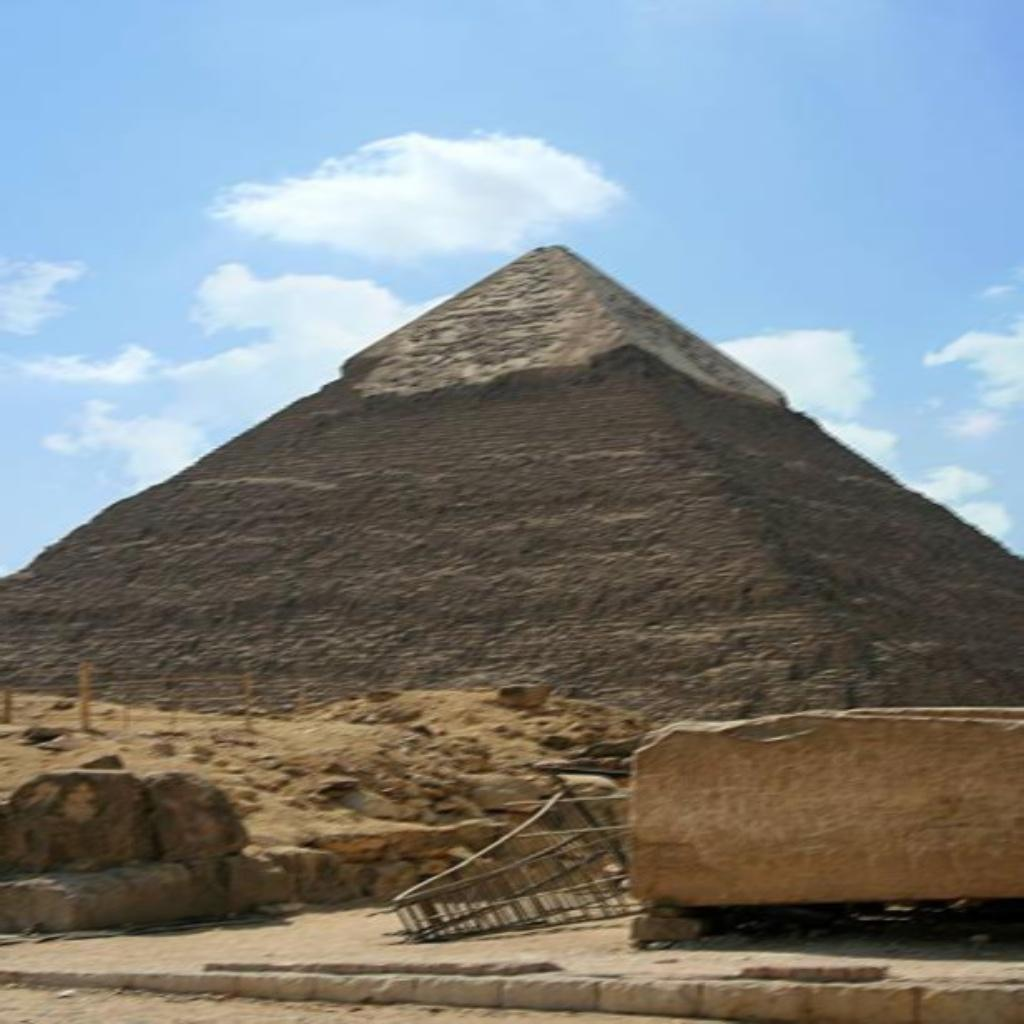Great Pyramids of Giza: (2, 241, 1018, 721)
